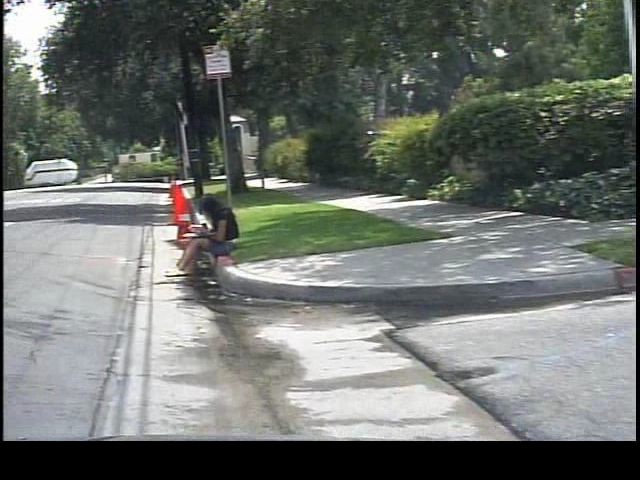person: (154, 188, 238, 279)
